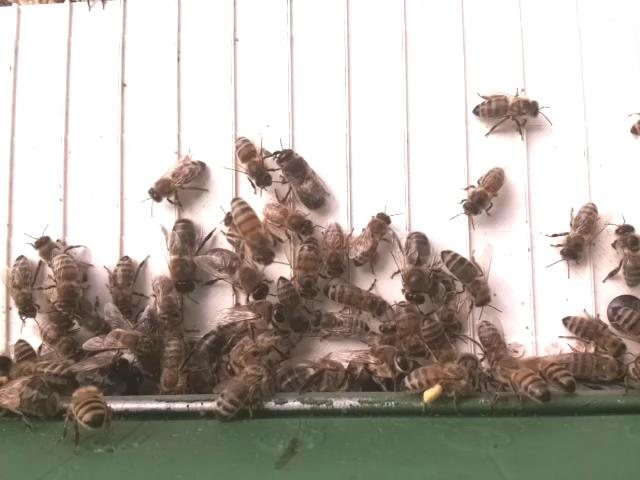Drone: (201, 245, 269, 303), (275, 143, 328, 212), (166, 215, 202, 297), (400, 230, 435, 309)
Worker: (438, 247, 493, 306), (230, 194, 273, 264), (146, 158, 209, 202), (561, 312, 626, 354), (458, 164, 505, 219), (558, 201, 599, 263), (231, 131, 272, 190), (350, 212, 392, 267), (323, 282, 387, 317), (308, 310, 373, 342), (470, 94, 544, 122), (9, 253, 39, 321), (276, 274, 311, 332), (50, 251, 82, 314), (474, 316, 509, 373), (261, 200, 314, 236), (110, 252, 137, 321), (613, 220, 640, 287), (294, 236, 320, 300), (323, 221, 348, 283)
